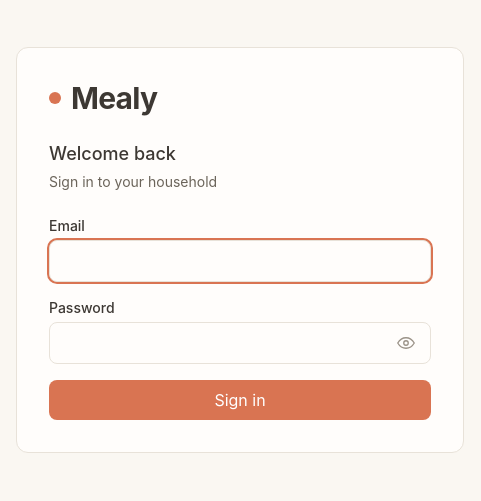
LoginForm error mapping › shows the "too many attempts" message on 429
The image size is (481, 501).
Expected: the heading "Welcome back" is shown, [49,143,176,164]
Type "a@b.com" into the field labelled "Email".
click(240, 261); type("a@b.com")  # box [49,240,431,282]
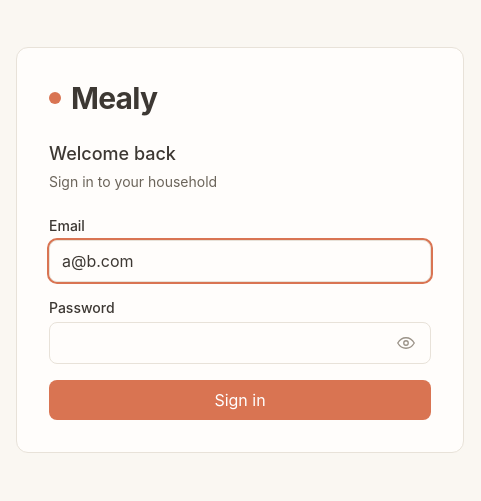
Type "pwd-1234567890" into the password field labelled "Password".
click(240, 343); type("pwd-1234567890")  # box [49,322,431,364]
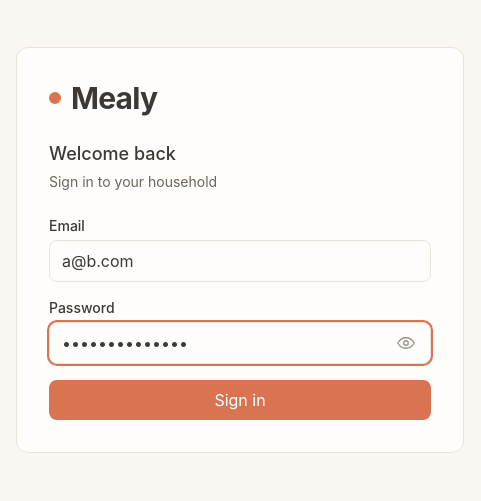
Click the button "Sign in".
click(240, 400)  # box [49,380,431,420]
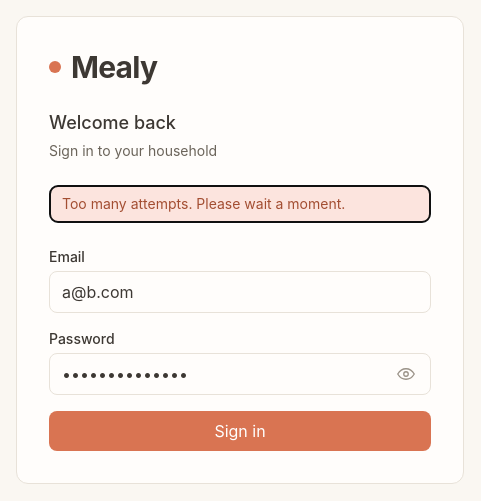
Result: the text "Too many attempts. Please wait a moment." is shown at [49,185,431,223]
